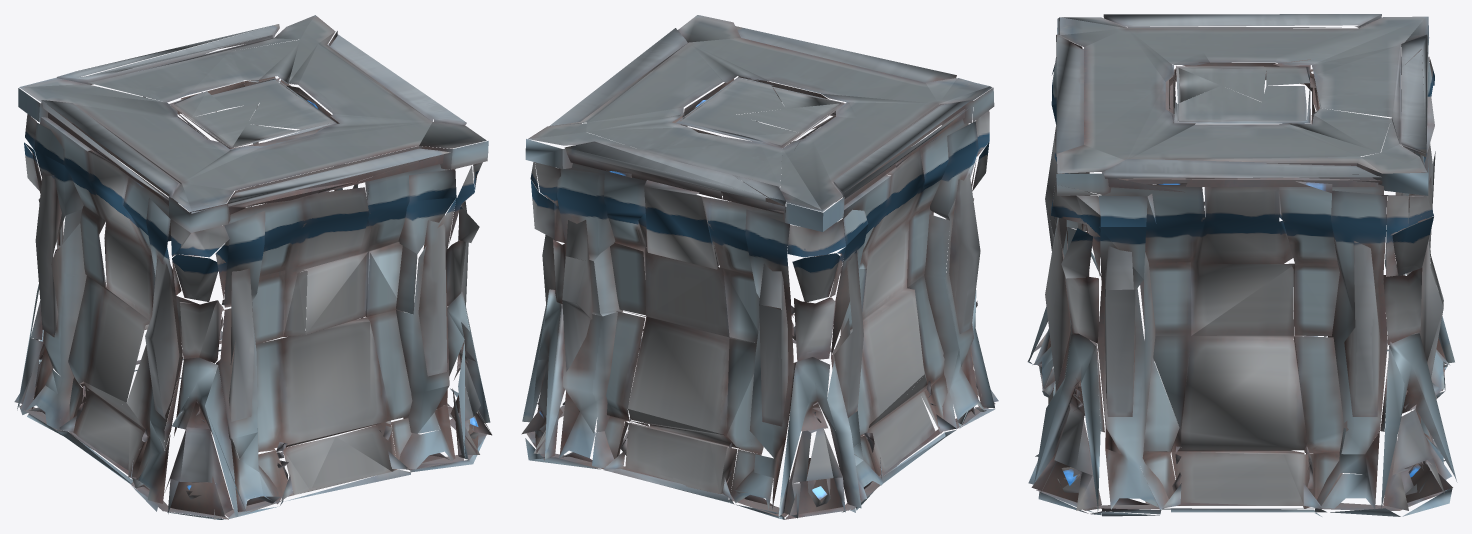
The model's file is Floor_Tek_C.glb.
3 renders of one model, left to right at view 1: azimuth 30°, elevation 25°; view 2: azimuth 150°, elevation 25°; view 3: azimuth 270°, elevation 25°, orthographic. The views are drawn at different scales.
Visible parts, largest first — view 1: SM_Tek_FloorSquare; view 2: SM_Tek_FloorSquare; view 3: SM_Tek_FloorSquare.
Boxes of the visible parts, box(x1,y1,x2,y2) form: SM_Tek_FloorSquare: box(14, 15, 491, 519); SM_Tek_FloorSquare: box(521, 15, 998, 519); SM_Tek_FloorSquare: box(1027, 14, 1457, 516).
Bounding box in the file's own units: 3.45 × 3.04 × 3.47.
1 material, 1 textured.
